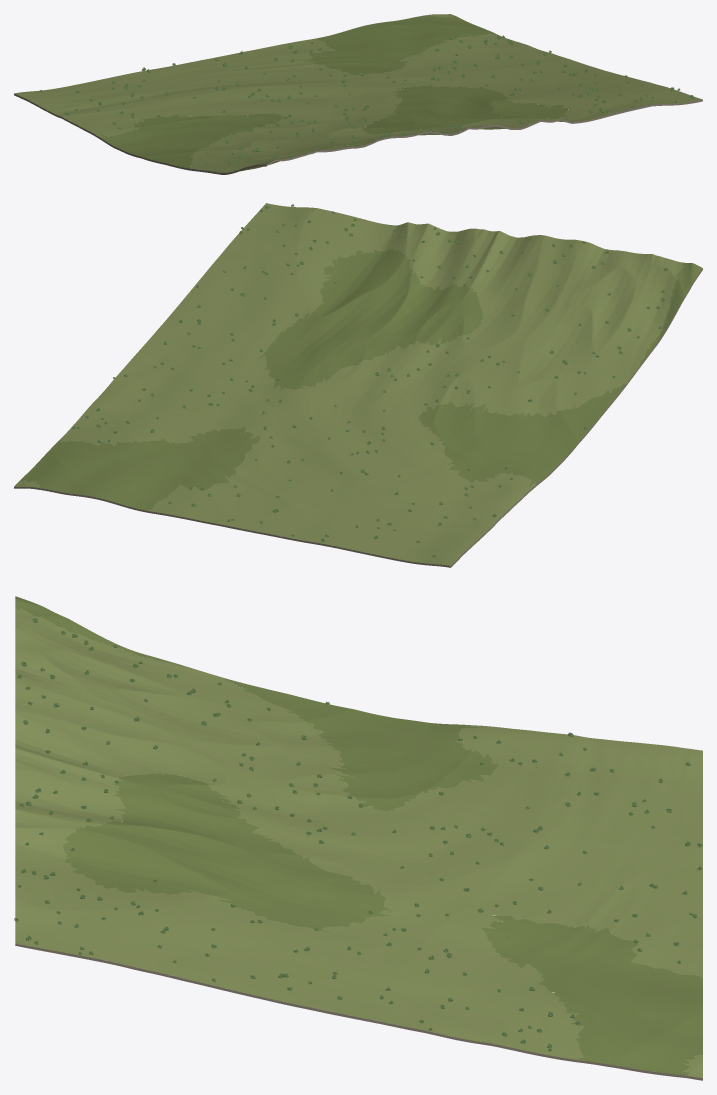
The model's file is parca_+8_-4-yakin.glb.
3 renders of one model, top to bottom at view 1: azimuth 30°, elevation 25°; view 2: azimuth 150°, elevation 25°; view 3: azimuth 270°, elevation 25°, orthographic. The views are drawn at different scales.
Visible parts, largest first — view 1: parca_+8_-4_arazi, parca_+8_-4_bitkiler; view 2: parca_+8_-4_arazi, parca_+8_-4_bitkiler; view 3: parca_+8_-4_arazi, parca_+8_-4_bitkiler.
Boxes of the visible parts, x1,y1,x2,y2 form: parca_+8_-4_arazi: (14, 14, 702, 174); parca_+8_-4_bitkiler: (39, 34, 693, 171); parca_+8_-4_arazi: (14, 203, 702, 567); parca_+8_-4_bitkiler: (72, 204, 667, 557); parca_+8_-4_arazi: (15, 596, 702, 1080); parca_+8_-4_bitkiler: (14, 614, 702, 1051).
Size of the model in its own units: 1003 by 317 by 1002.
